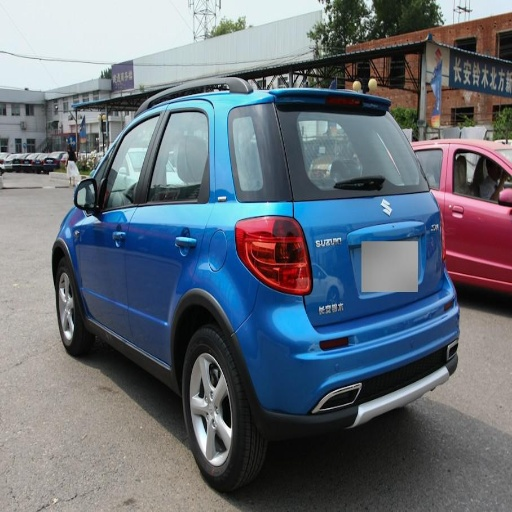back_bumper: (234, 276, 459, 438)
back_glass: (247, 106, 438, 198)
back_left_door: (129, 102, 215, 357)
back_left_light: (235, 219, 311, 295)
back_right_door: (446, 149, 482, 234)
tailgate: (312, 289, 371, 328)
trunk: (298, 196, 438, 342)
